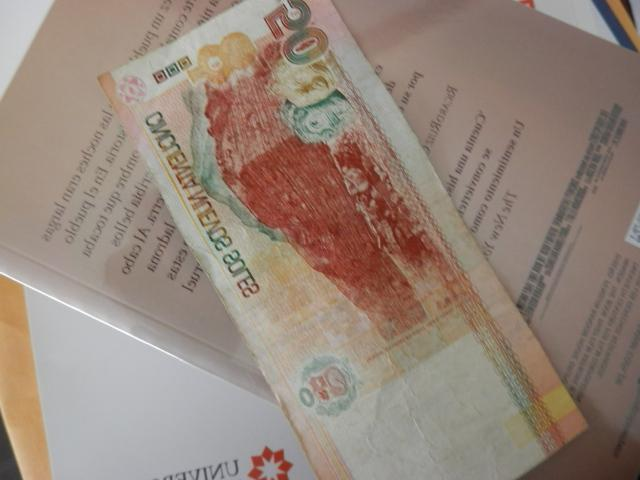B50: (98, 1, 591, 478)
